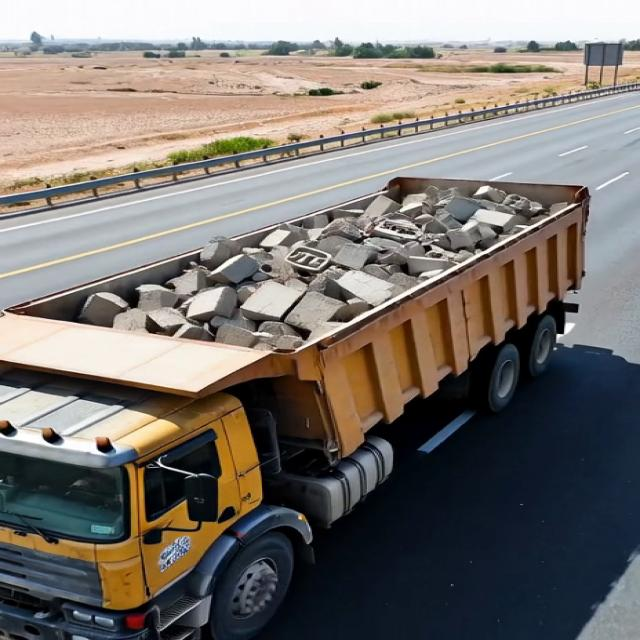trailer: (20, 185, 598, 328)
truck: (0, 139, 597, 639)
